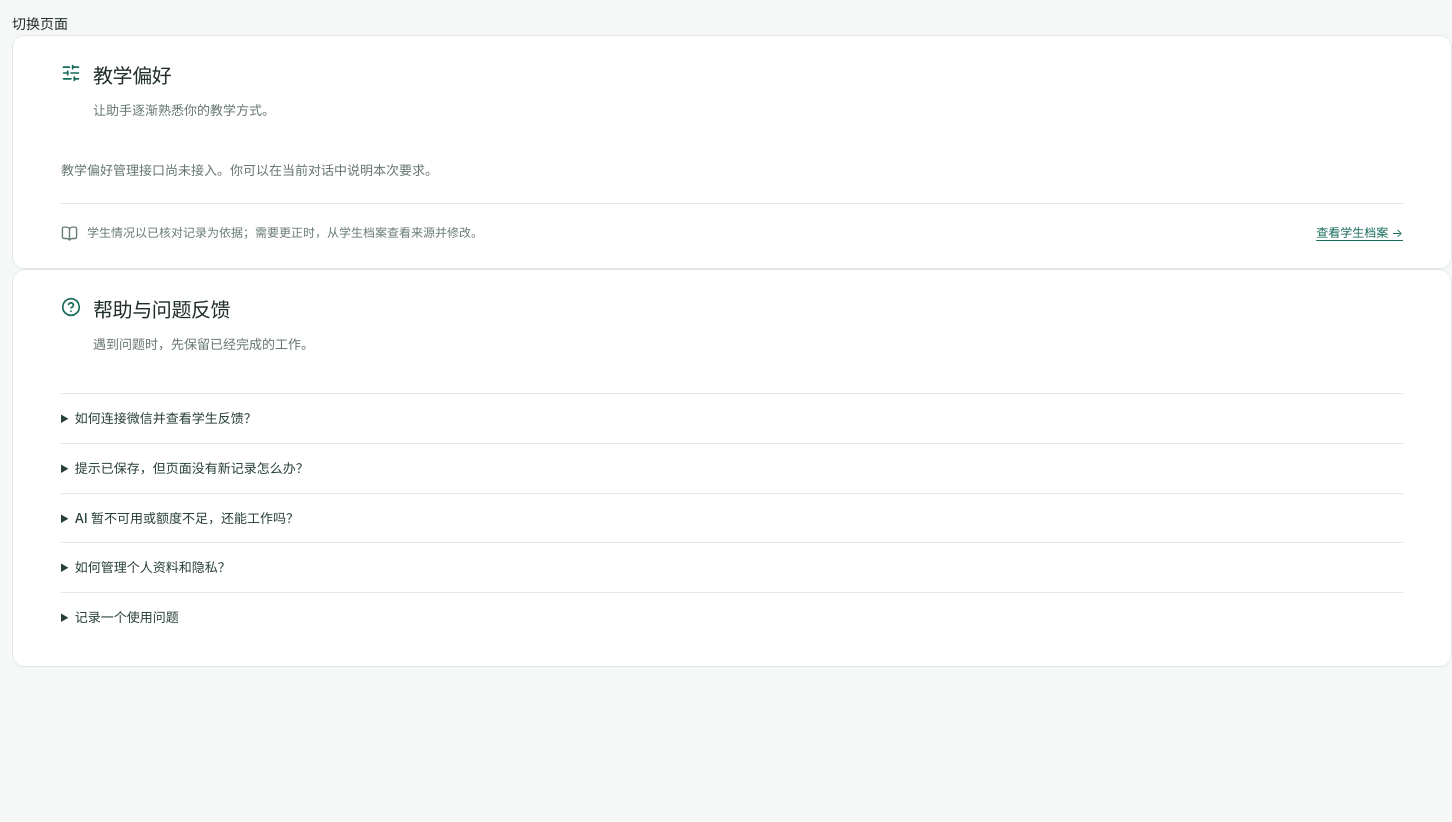
Test: WorkspaceSupport › does not offer simulated writes in a connected workspace
Click the heading "记录一个使用问题" at (127, 617), box x1=75 y1=609 x2=179 y2=625
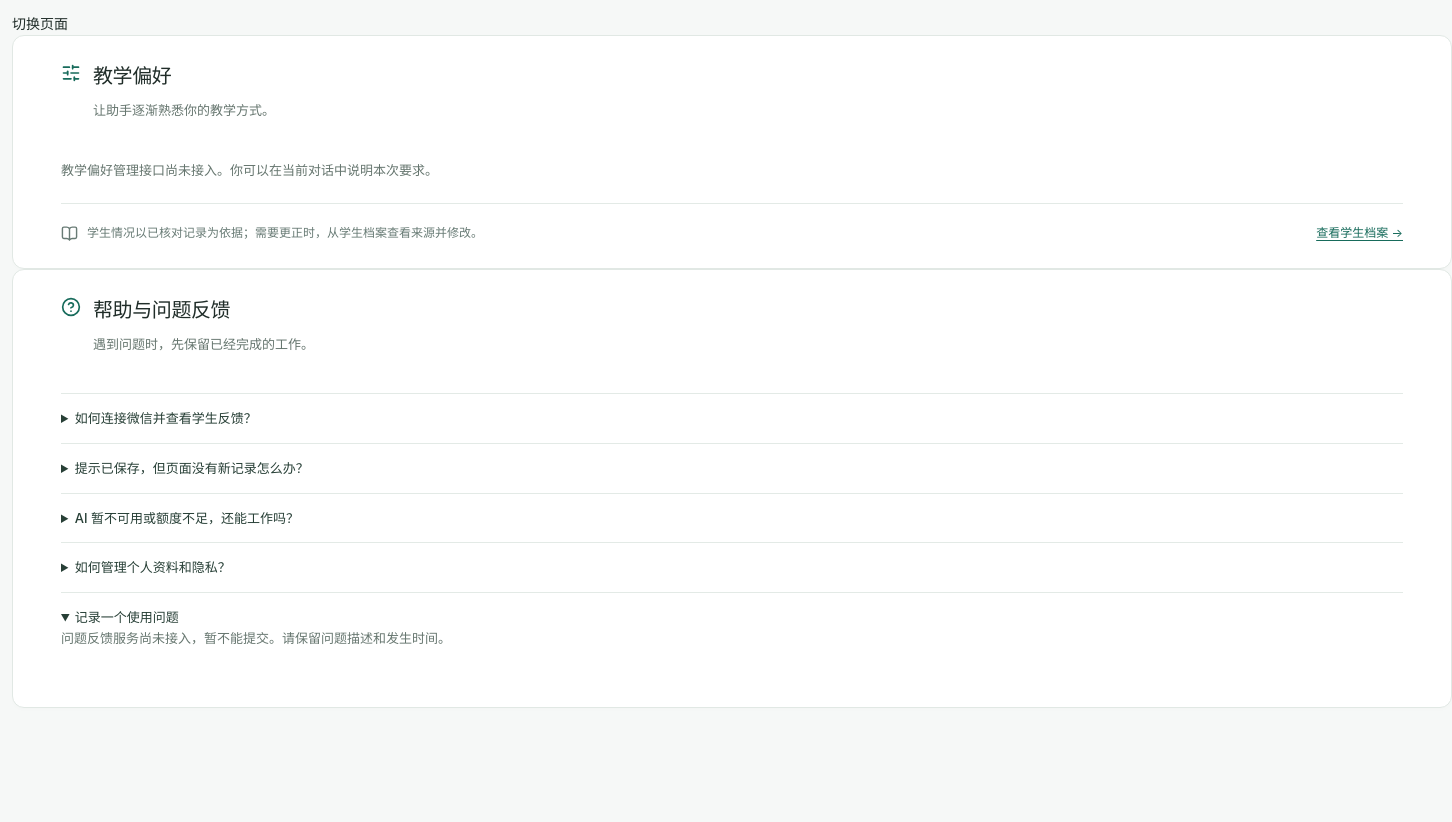
Expected: the text "教学偏好管理接口尚未接入。你可以在当前对话中说明本次要求。" is shown, x1=61 y1=162 x2=438 y2=178
Result: the text "问题反馈服务尚未接入，暂不能提交。请保留问题描述和发生时间。" is shown at x1=61 y1=630 x2=451 y2=646
